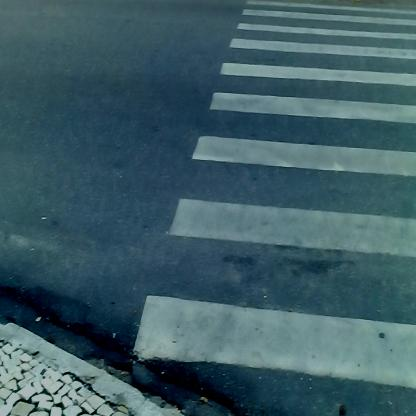crosswalk: (128, 1, 416, 384)
